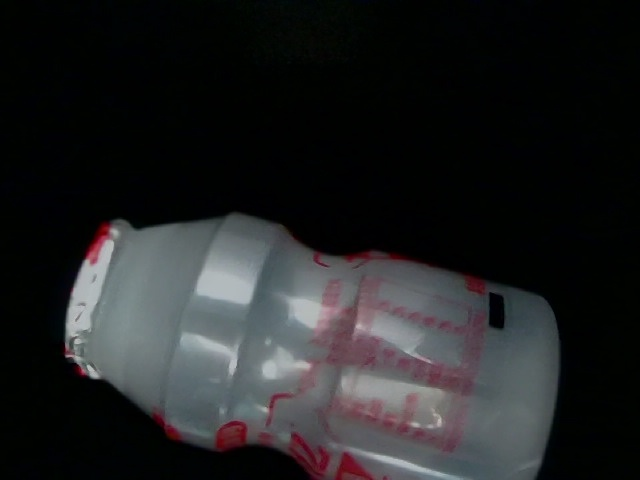CYLJ: (158, 371, 493, 480)
